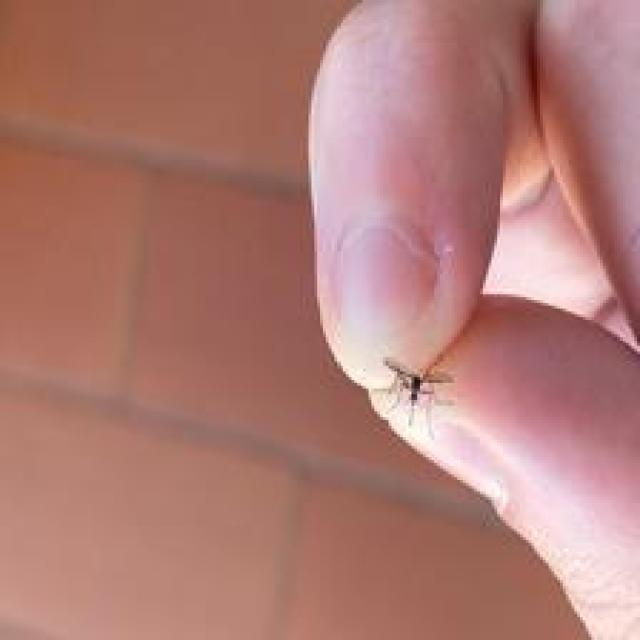Aedes albopictus: (370, 357, 456, 440)
